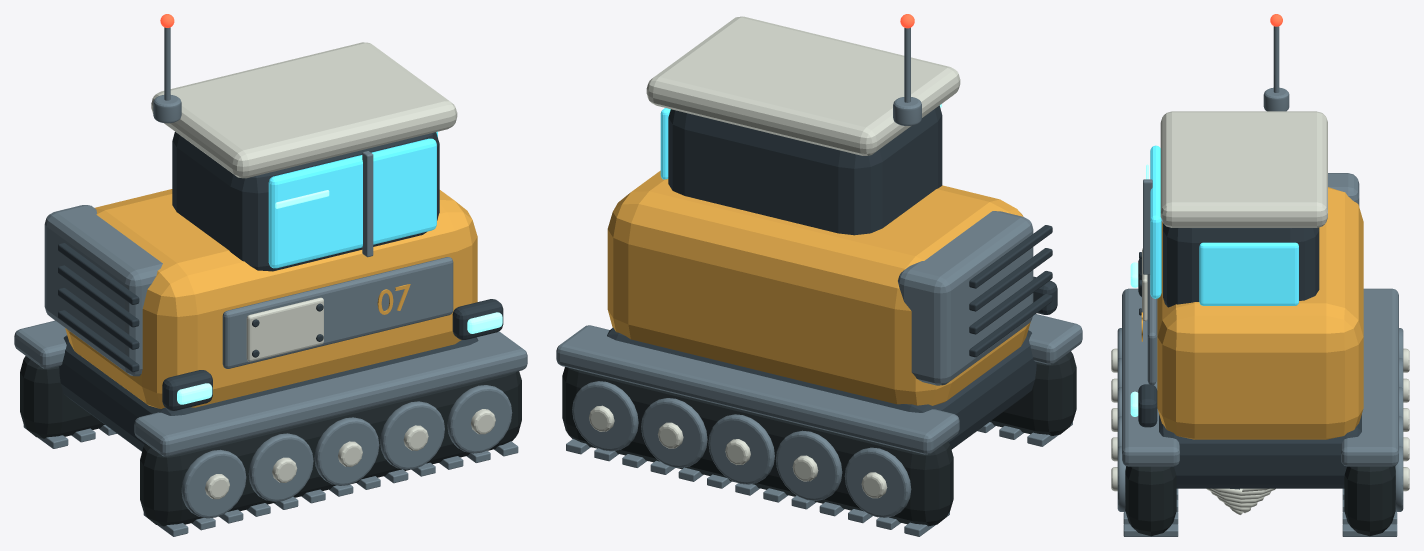
The model's file is prospector.glb.
The picture shows the model from 3 angles, left to right: view 1: azimuth 30°, elevation 25°; view 2: azimuth 150°, elevation 25°; view 3: azimuth 270°, elevation 25°; orthographic projection. The views are drawn at different scales.
Visible parts, largest first — view 1: Pressure hull, Cabin roof armor, Track guard, Cockpit blue glazing, Track loop, Front body inset, Cabin frame, Rear heat exchanger, Chassis lower frame, Track loop.001, Armored access hatch, Road wheel.002 (+13 smaller); view 2: Pressure hull, Cabin roof armor, Cabin frame, Track guard.001, Rear heat exchanger, Track loop.001, Chassis lower frame, Track loop, Road wheel.005, Road wheel.007, Road wheel.009, Road wheel.008 (+8 smaller); view 3: Pressure hull, Cabin roof armor, Chassis lower frame, Track guard.001, Side viewport, Cabin frame, Track guard, Track loop, Track loop.001, Cockpit blue glazing, Front body inset, Headlamp housing.001 (+10 smaller).
Boxes of the visible parts, left/top/right/bottom form: Pressure hull: left=65, top=189, right=477, bottom=408; Cabin roof armor: left=151, top=42, right=457, bottom=178; Track guard: left=134, top=331, right=527, bottom=456; Cockpit blue glazing: left=268, top=138, right=436, bottom=268; Track loop: left=140, top=371, right=521, bottom=526; Front body inset: left=222, top=257, right=453, bottom=368; Cabin frame: left=172, top=132, right=439, bottom=271; Rear heat exchanger: left=44, top=205, right=162, bottom=376; Chassis lower frame: left=59, top=335, right=478, bottom=451; Track loop.001: left=20, top=356, right=104, bottom=438; Armored access hatch: left=246, top=297, right=323, bottom=361; Road wheel.002: left=314, top=417, right=379, bottom=485; Pressure hull: left=607, top=170, right=1030, bottom=405; Cabin roof armor: left=646, top=16, right=960, bottom=155; Cabin frame: left=668, top=105, right=942, bottom=235; Track guard.001: left=556, top=325, right=959, bottom=454; Rear heat exchanger: left=898, top=211, right=1033, bottom=385; Track loop.001: left=562, top=367, right=953, bottom=526; Chassis lower frame: left=607, top=328, right=1036, bottom=449; Track loop: left=990, top=351, right=1076, bottom=435; Road wheel.005: left=844, top=447, right=911, bottom=517; Road wheel.007: left=708, top=414, right=774, bottom=484; Road wheel.009: left=572, top=381, right=638, bottom=451; Road wheel.008: left=641, top=398, right=707, bottom=468; Pressure hull: left=1157, top=187, right=1363, bottom=439; Cabin roof armor: left=1160, top=111, right=1327, bottom=227; Chassis lower frame: left=1159, top=414, right=1361, bottom=488; Track guard.001: left=1341, top=288, right=1398, bottom=466; Side viewport: left=1199, top=242, right=1298, bottom=305; Cabin frame: left=1163, top=223, right=1319, bottom=307; Track guard: left=1122, top=288, right=1179, bottom=466; Track loop: left=1125, top=466, right=1176, bottom=536; Track loop.001: left=1344, top=466, right=1395, bottom=536; Cockpit blue glazing: left=1150, top=145, right=1161, bottom=298; Front body inset: left=1147, top=274, right=1156, bottom=384; Headlamp housing.001: left=1138, top=384, right=1157, bottom=427.
Size of the model in its own units: 2.45 by 2.95 by 1.85.
